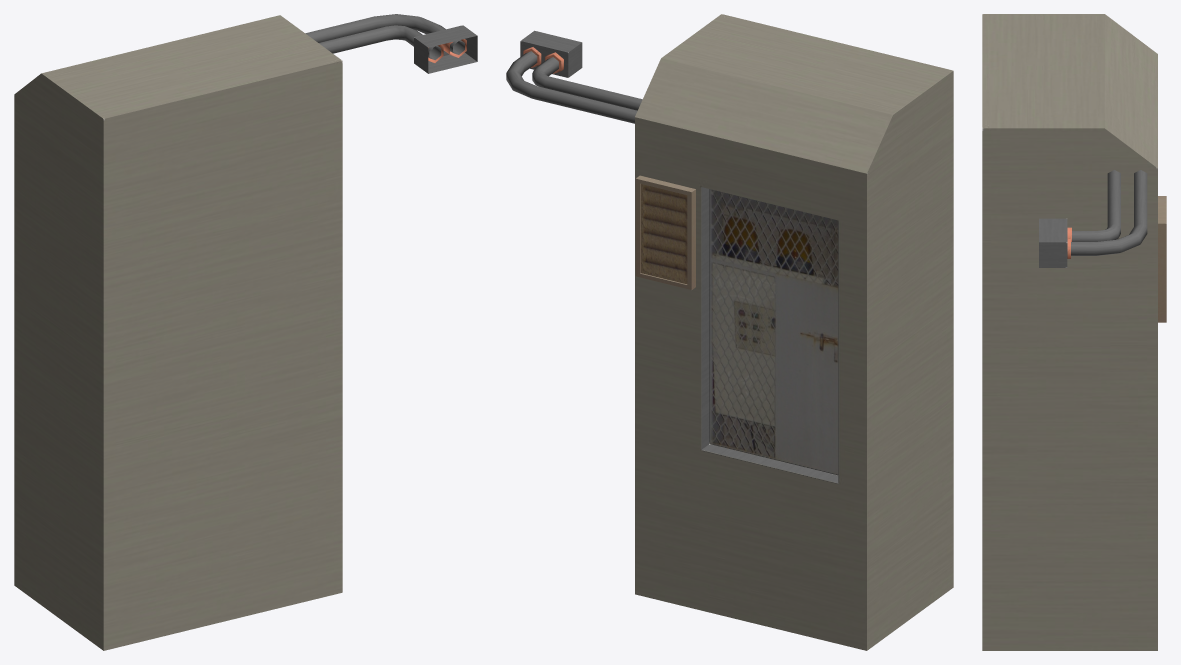
File: tank_control_panel.fbx
3 renders of one model, left to right at view 1: azimuth 30°, elevation 25°; view 2: azimuth 150°, elevation 25°; view 3: azimuth 270°, elevation 25°, orthographic. The views are drawn at different scales.
Visible parts, largest first — view 1: tank_control_panel; view 2: tank_control_panel; view 3: tank_control_panel.
Part boxes in pixels (x1,y1,x2,y2): tank_control_panel: (14,14,477,650); tank_control_panel: (506,14,953,650); tank_control_panel: (982,14,1166,650).
Size of the model in its own units: 276 by 348 by 111.
